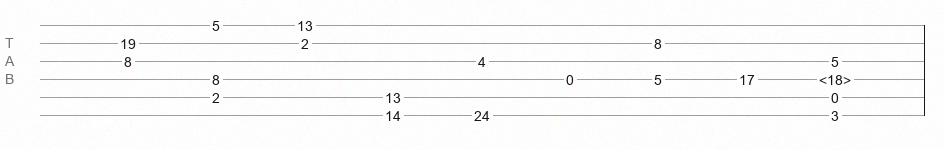0: (566, 72, 574, 82), (831, 90, 839, 100)
13: (297, 18, 313, 28), (385, 90, 401, 100)
14: (385, 108, 401, 118)
17: (739, 72, 755, 82)
19: (120, 36, 136, 46)
2: (212, 90, 220, 100), (301, 36, 309, 46)
24: (474, 108, 490, 118)
3: (831, 108, 839, 118)
4: (478, 54, 486, 64)
5: (212, 18, 220, 28), (654, 72, 662, 82), (831, 54, 839, 64)
8: (124, 54, 132, 64), (212, 72, 220, 82), (654, 36, 662, 46)
harmonic: (819, 72, 851, 82)
